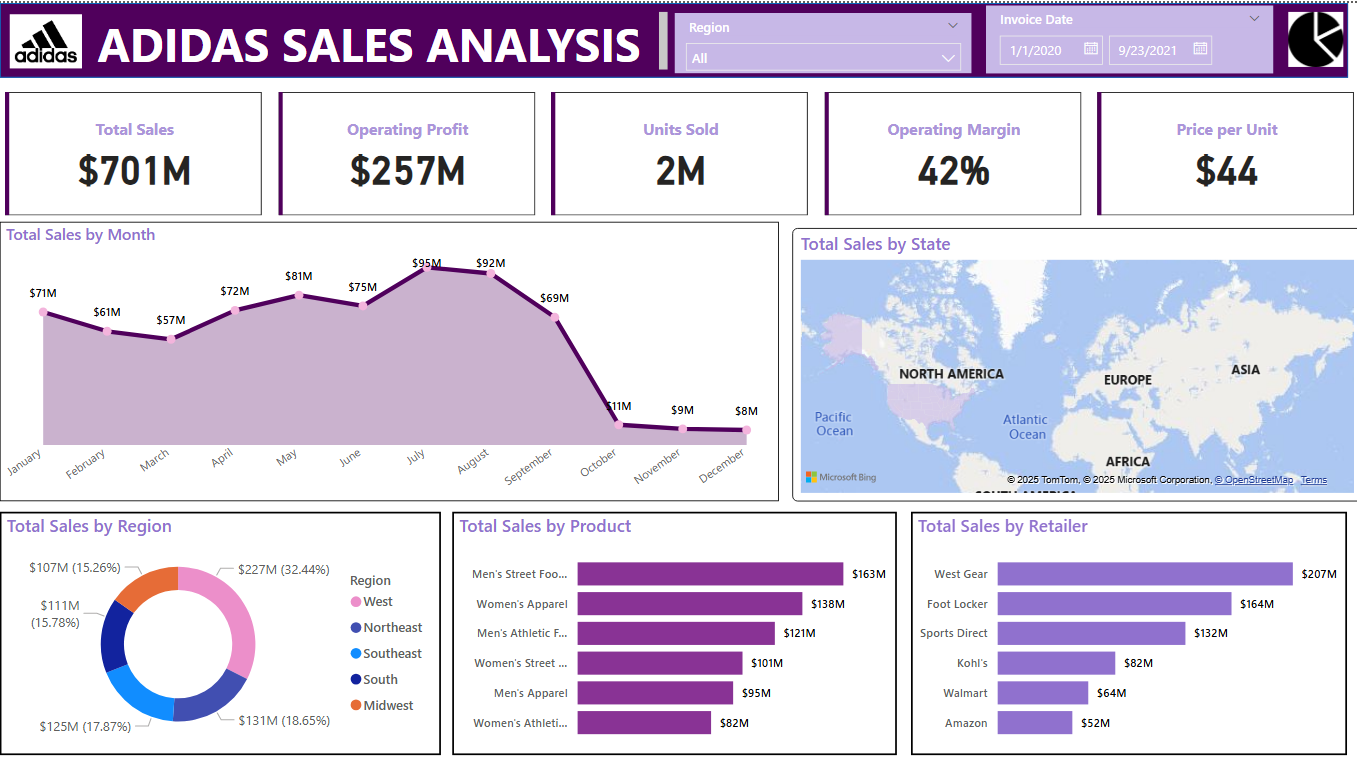

The page's visual inventory and layout, read from the dashboard file:
{"tool":"powerbi","page":{"name":"Page 1","canvas":[1280,720],"ordinal":0},"visuals":[{"type":"shape","box":[12.2,0,1254.6,69.7],"z":0},{"type":"textbox","box":[99,3.7,540.5,64.8],"z":1000},{"type":"cardVisual","fields":{"Data":["Sum(Data Sales Adidas.Total Sales)","Sum(Data Sales Adidas.Operating Profit)","Sum(Data Sales Adidas.Units Sold)","Avg(Data Sales Adidas.Operating Margin)","Avg(Data Sales Adidas.Price per Unit)"]},"box":[12.2,78.3,1268.1,125],"z":2000},{"type":"areaChart","title":"Total Sales by Month","fields":{"Category":["Data Sales Adidas.Invoice Date.Variation.Date Hierarchy.Month"],"Y":["Sum(Data Sales Adidas.Total Sales)"]},"box":[12.2,203,725,260],"z":3000},{"type":"filledMap","title":"Total Sales by State","fields":{"Category":["Data Sales Adidas.State"],"Y":["Sum(Data Sales Adidas.Total Sales)"]},"box":[749.6,209.1,530.7,254.3],"z":4000},{"type":"donutChart","title":"Total Sales by Region","fields":{"Category":["Data Sales Adidas.Region"],"Y":["Sum(Data Sales Adidas.Total Sales)"]},"box":[12.2,473.2,410,226],"z":5000},{"type":"barChart","title":"Total Sales by Product","fields":{"Y":["Sum(Data Sales Adidas.Total Sales)"],"Category":["Data Sales Adidas.Product"]},"box":[434.1,473.2,413.3,226.2],"z":6000},{"type":"barChart","title":"Total Sales by Retailer","fields":{"Y":["Sum(Data Sales Adidas.Total Sales)"],"Category":["Data Sales Adidas.Retailer"]},"box":[860.9,473.2,406,226.2],"z":7000},{"type":"slicer","fields":{"Values":["Data Sales Adidas.Region"]},"box":[640.2,9,276.1,56.4],"z":8000},{"type":"slicer","fields":{"Values":["Data Sales Adidas.Invoice Date"]},"box":[929.9,2.3,267.1,63.1],"z":9000},{"type":"image","box":[22,11,67.3,50.1],"z":10000},{"type":"image","title":"Dount chart","box":[1192.5,3.4,87.9,60.9],"z":11000}]}

Visuals, with their boxes in screenshot pixels (x1, y1, x2, y2), scaled from the page's 1280x720 canvas onto the 1357x772 screenshot:
shape: rect(13, 0, 1343, 75)
textbox: rect(105, 4, 678, 73)
cardVisual - Sum(Data Sales Adidas.Total Sales) x Sum(Data Sales Adidas.Operating Profit): rect(13, 84, 1356, 218)
"Total Sales by Month" areaChart: rect(13, 218, 782, 496)
"Total Sales by State" filledMap: rect(795, 224, 1356, 497)
"Total Sales by Region" donutChart: rect(13, 507, 448, 750)
"Total Sales by Product" barChart: rect(460, 507, 898, 750)
"Total Sales by Retailer" barChart: rect(913, 507, 1343, 750)
slicer - Data Sales Adidas.Region: rect(679, 10, 971, 70)
slicer - Data Sales Adidas.Invoice Date: rect(986, 2, 1269, 70)
image: rect(23, 12, 95, 66)
"Dount chart" image: rect(1264, 4, 1356, 69)
